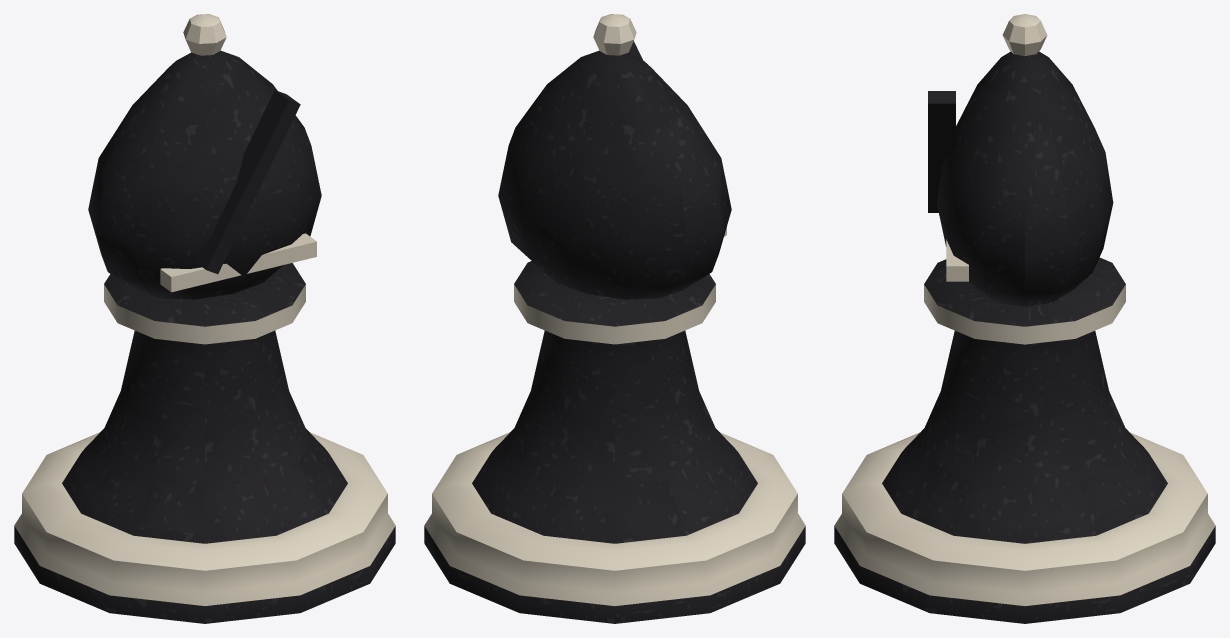
Rendered from bishop_dark_lod1.glb.
The picture shows the model from 3 angles, left to right: view 1: azimuth 30°, elevation 25°; view 2: azimuth 150°, elevation 25°; view 3: azimuth 270°, elevation 25°; orthographic projection.
Visible parts, largest first — view 1: Piece_Bishop_Dark_Mesh; view 2: Piece_Bishop_Dark_Mesh; view 3: Piece_Bishop_Dark_Mesh.
Boxes of the visible parts, x1,y1,x2,y2 form: Piece_Bishop_Dark_Mesh: (14, 14, 395, 623); Piece_Bishop_Dark_Mesh: (424, 14, 805, 623); Piece_Bishop_Dark_Mesh: (834, 14, 1215, 623).
Bounding box in the file's own units: 0.68 × 1.04 × 0.68.
Materials: 3 (1 with a texture image).
